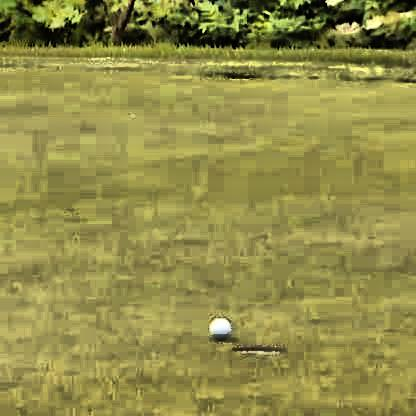golfball: (205, 314, 228, 339)
